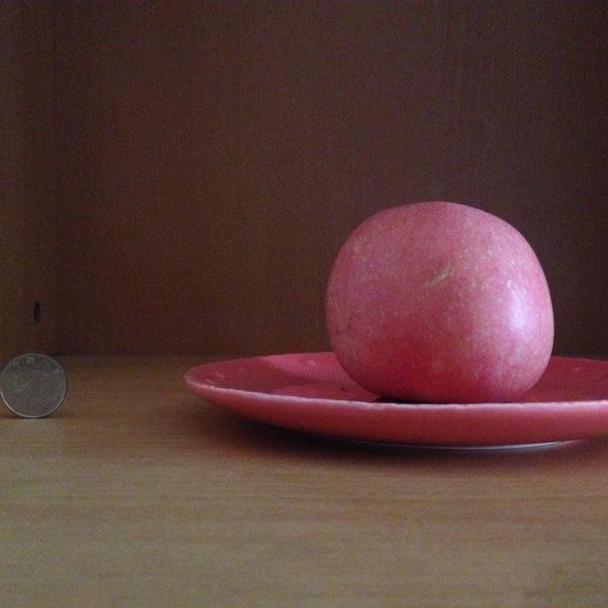apple: (323, 197, 559, 404)
